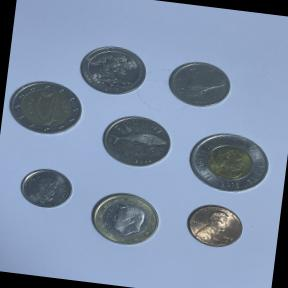coin: (182, 125, 279, 200), (82, 184, 172, 255), (4, 74, 86, 140), (97, 108, 179, 174), (74, 39, 152, 100), (176, 196, 250, 256), (14, 160, 80, 215)
